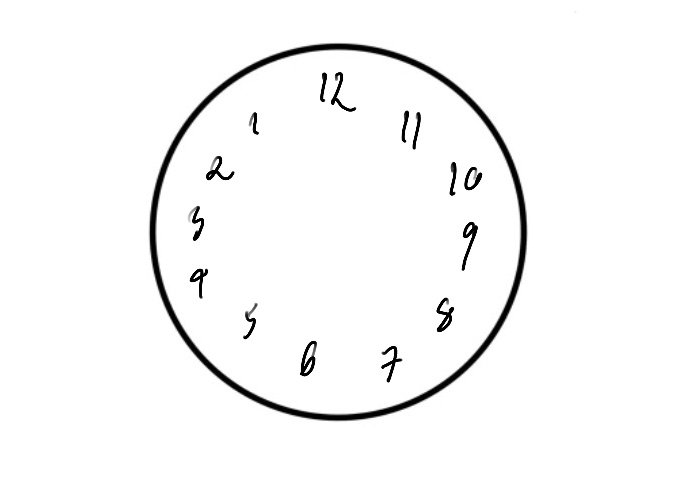eight: (432, 291, 459, 336)
eleven: (398, 105, 427, 158)
five: (239, 296, 264, 345)
four: (186, 256, 212, 302)
nine: (457, 213, 483, 278)
one: (243, 106, 263, 139)
seven: (376, 339, 409, 388)
six: (298, 338, 324, 380)
ten: (442, 154, 491, 204)
three: (184, 197, 209, 246)
twelve: (314, 68, 367, 123)
two: (205, 149, 240, 188)
